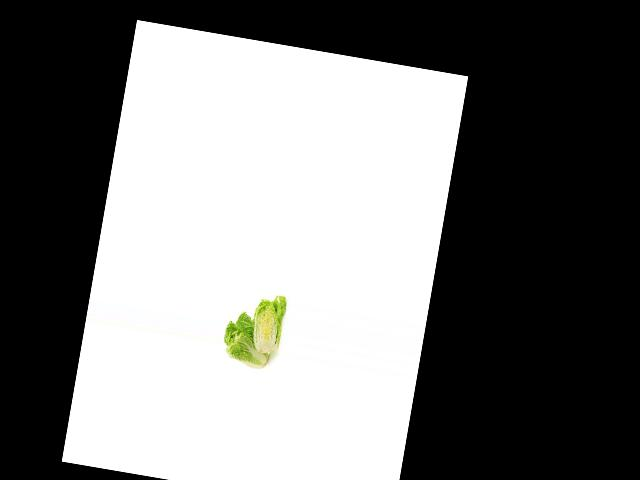lettuce: (217, 305, 279, 372)
